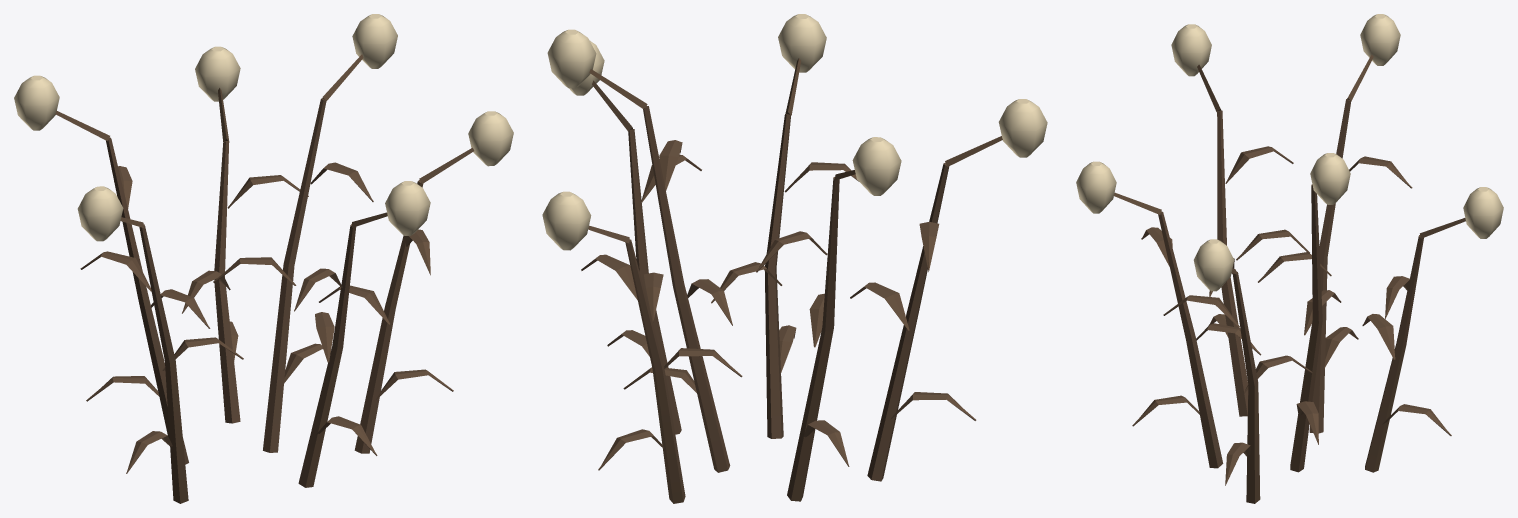
Rendered from crop_flax_withered.glb.
The picture shows the model from 3 angles, left to right: view 1: azimuth 30°, elevation 25°; view 2: azimuth 150°, elevation 25°; view 3: azimuth 270°, elevation 25°; orthographic projection. The views are drawn at different scales.
Parts seen in each view (by area): view 1: flax_leaf_0_0, flax_boll_0; view 2: flax_leaf_0_0, flax_boll_0; view 3: flax_leaf_0_0, flax_boll_0.
Part boxes in pixels (<box>): flax_leaf_0_0: <box>55,54,474,503</box>; flax_boll_0: <box>14,14,513,241</box>; flax_leaf_0_0: <box>581,58,1002,503</box>; flax_boll_0: <box>542,14,1047,250</box>; flax_leaf_0_0: <box>1114,54,1465,503</box>; flax_boll_0: <box>1076,14,1503,291</box>.
Size of the model in its own units: 0.5629 by 0.4836 by 0.5054.
